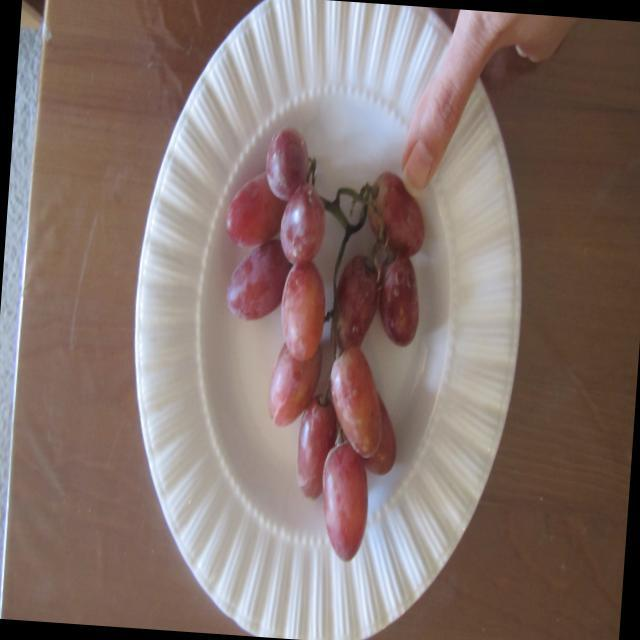Finger: (396, 39, 476, 202)
Grapes: (198, 175, 431, 574)
